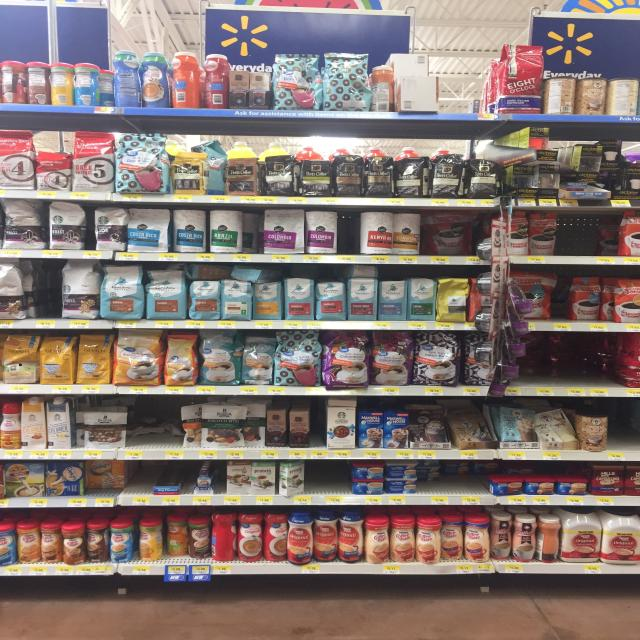void: (441, 50, 485, 123), (126, 398, 176, 460), (368, 64, 407, 124), (337, 60, 369, 121), (307, 460, 346, 510), (611, 399, 640, 466), (39, 263, 63, 331), (408, 63, 434, 125), (564, 211, 593, 266), (306, 62, 332, 112), (622, 334, 640, 396), (127, 464, 149, 509)
